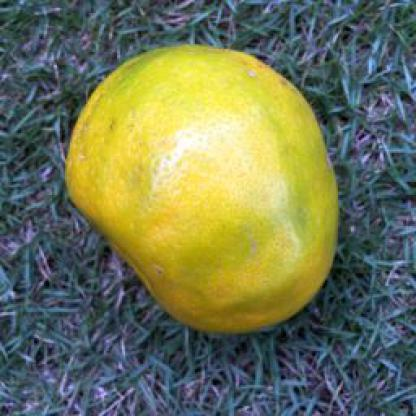orange: (61, 44, 346, 338)
